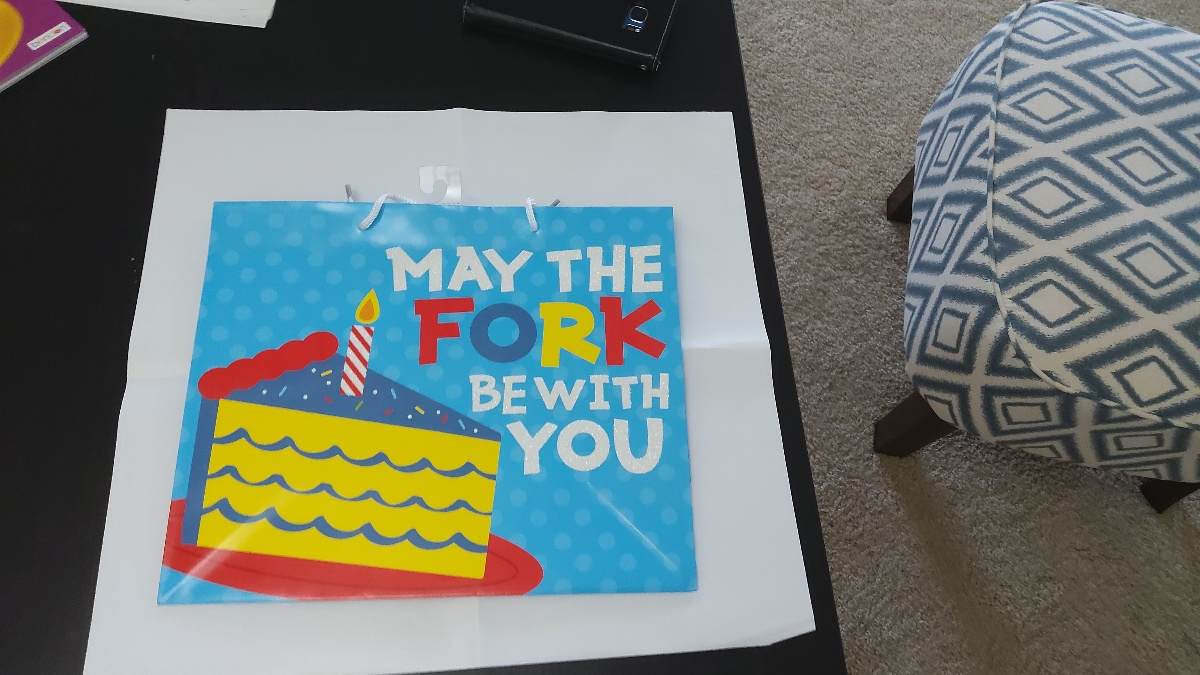paper_bag: (213, 200, 686, 590)
